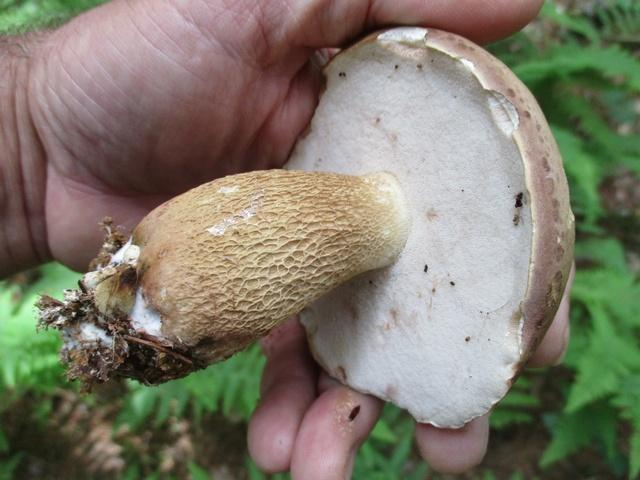poisonous_mushroom: (40, 25, 560, 424)
